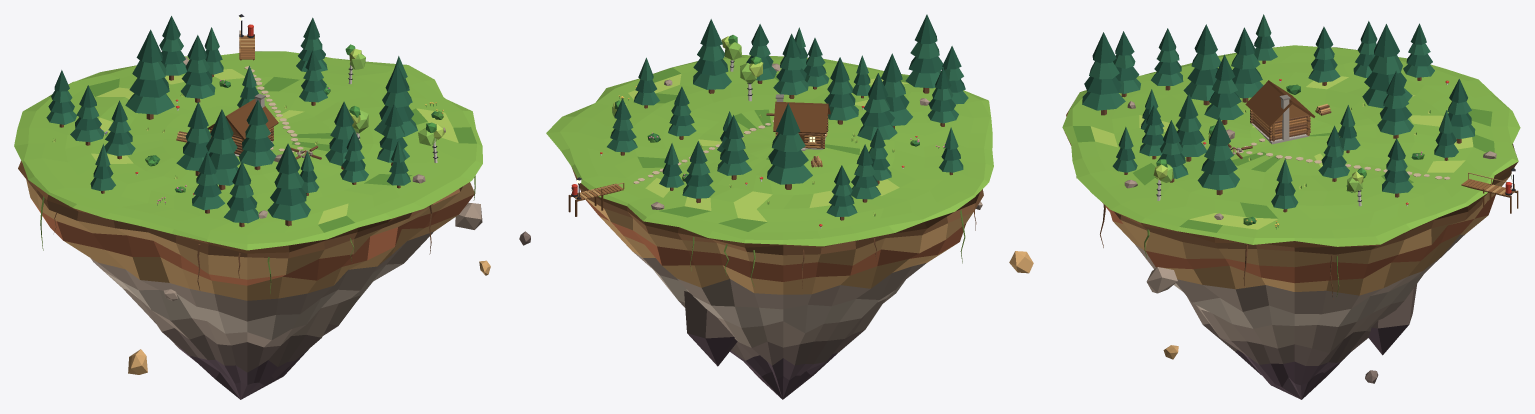
Rendered from island_forest.glb.
3 views of the same model, side by side, from view 1: azimuth 30°, elevation 25°; view 2: azimuth 150°, elevation 25°; view 3: azimuth 270°, elevation 25° (orthographic). The views are drawn at different scales.
Parts seen in each view (by area): view 1: Island-col, Dressing, Debris, Roots; view 2: Island-col, Dressing, Debris; view 3: Island-col, Dressing, Debris.
Part boxes in pixels (box(x1,y1,x2,y2)): Island-col: box(14, 51, 482, 399); Dressing: box(46, 14, 445, 227); Debris: box(128, 202, 490, 374); Roots: box(40, 175, 475, 293); Island-col: box(546, 55, 993, 399); Dressing: box(568, 14, 968, 228); Debris: box(519, 201, 1033, 273); Island-col: box(1062, 45, 1520, 399); Dressing: box(1082, 14, 1518, 229); Debris: box(1146, 267, 1378, 383).
Size of what is drawn, in the model's own units: 70.77 by 54.49 by 64.11.
